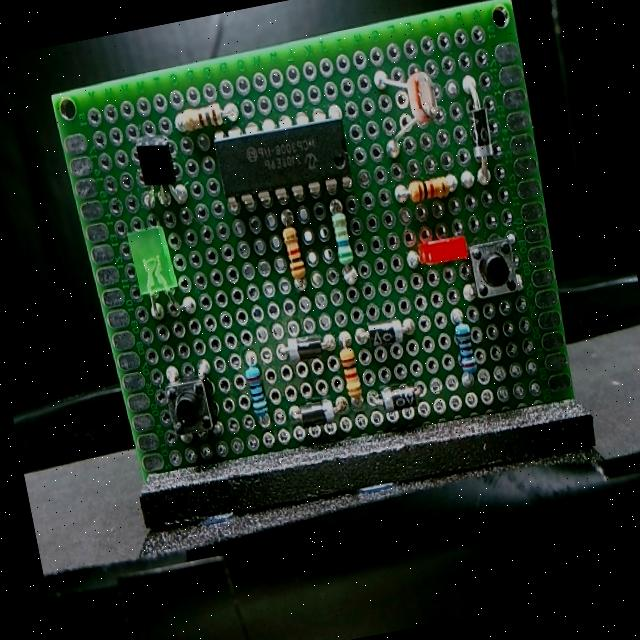IC: (208, 100, 360, 225)
cds: (368, 54, 450, 160)
diode: (452, 68, 502, 194), (351, 313, 422, 355), (363, 376, 433, 418), (283, 394, 352, 436), (274, 333, 338, 370)
led: (123, 221, 190, 330), (400, 224, 480, 276)
resistor: (322, 196, 367, 292), (329, 323, 371, 423), (274, 205, 314, 302), (442, 306, 484, 396), (238, 346, 276, 439), (389, 168, 464, 214), (170, 98, 243, 140)
switch: (156, 353, 228, 452), (450, 228, 530, 308)
transistor: (129, 134, 189, 218)
